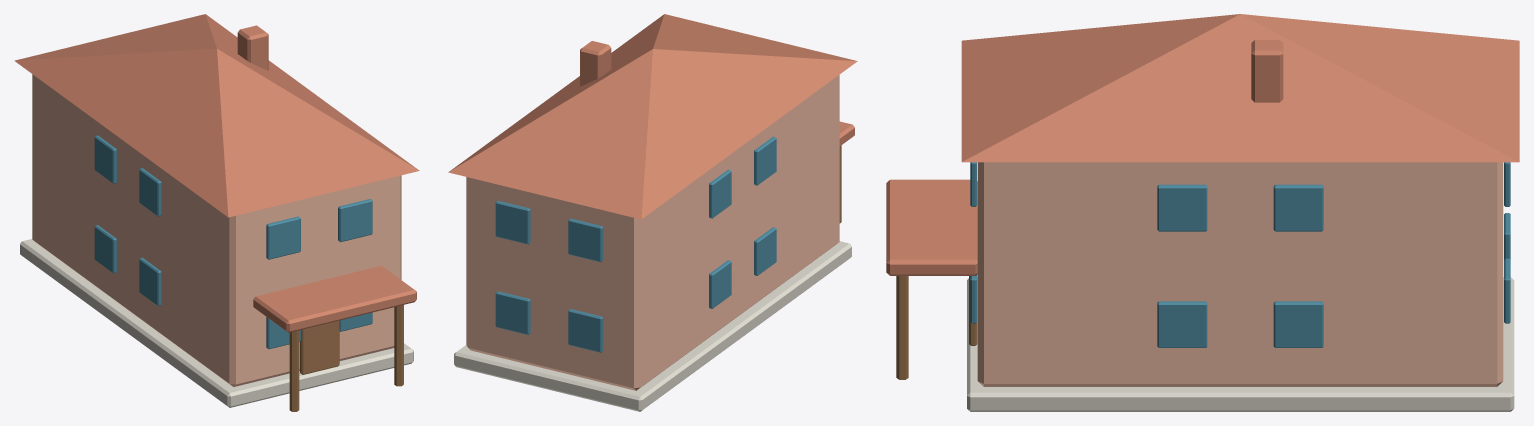
The model's file is RES_LOW_1x2_009.glb.
3 views of the same model, side by side, from view 1: azimuth 30°, elevation 25°; view 2: azimuth 150°, elevation 25°; view 3: azimuth 270°, elevation 25° (orthographic). The views are drawn at different scales.
Parts seen in each view (by area): view 1: RES_LOW_1x2_009_Visual; view 2: RES_LOW_1x2_009_Visual; view 3: RES_LOW_1x2_009_Visual.
Part boxes in pixels (x1=…): RES_LOW_1x2_009_Visual: x1=14, y1=14, x2=419, y2=411; RES_LOW_1x2_009_Visual: x1=448, y1=14, x2=857, y2=411; RES_LOW_1x2_009_Visual: x1=886, y1=14, x2=1519, y2=411.
Size of what is drawn, in the model's own units: 1.61 by 2.1 by 3.54.
